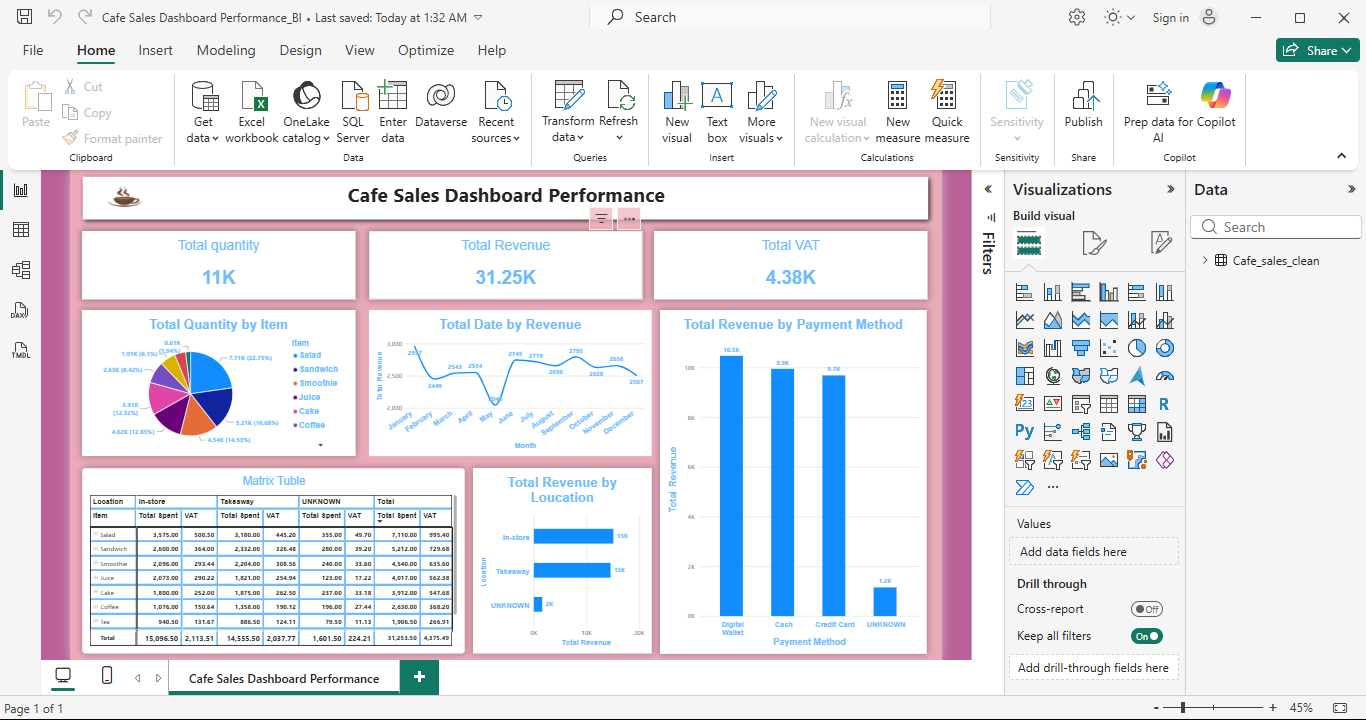

This screenshot's page, from the dashboard's own definition file:
{"tool":"powerbi","page":{"name":"Cafe Sales Dashboard Performance ","canvas":[1920,1080],"ordinal":0},"visuals":[{"type":"pieChart","title":"Total  Quantity by Item","fields":{"Category":["Cafe_sales_clean.Item"],"Y":["Sum(Cafe_sales_clean.Total Spent)"]},"box":[26.8,307.6,602.8,322.1],"z":0},{"type":"shape","box":[12.4,0,1893.2,123.9],"z":1000},{"type":"textbox","box":[46.3,15.4,1842.6,92.6],"z":2000},{"type":"card","title":"Total quantity","fields":{"Values":["Sum(Cafe_sales_clean.Quantity)"]},"box":[26.8,134.2,602.8,150.7],"z":3000},{"type":"card","title":"Total VAT","fields":{"Values":["Cafe_sales_clean.VAT"]},"box":[1286.2,134.2,602.8,150.7],"z":4000},{"type":"card","title":"Total Revenue","fields":{"Values":["Sum(Cafe_sales_clean.Total Spent)"]},"box":[658.6,134.2,602.8,150.7],"z":5000},{"type":"lineChart","title":"Total  Date by Revenue","fields":{"Category":["Cafe_sales_clean.Transaction Date.Variation.Date Hierarchy.Year","Cafe_sales_clean.Transaction Date.Variation.Date Hierarchy.Quarter","Cafe_sales_clean.Transaction Date.Variation.Date Hierarchy.Month"],"Y":["Sum(Cafe_sales_clean.Total Spent)"]},"box":[658.6,307.6,623.5,322.1],"z":6000},{"type":"pivotTable","title":"Matrix Tuble","fields":{"Columns":["Cafe_sales_clean.Location"],"Rows":["Cafe_sales_clean.Item","Cafe_sales_clean.Payment Method"],"Values":["Sum(Cafe_sales_clean.Total Spent)","Cafe_sales_clean.VAT"]},"box":[26.8,656.5,844.4,408.8],"z":7000},{"type":"columnChart","title":"Total Revenue by Payment Method","fields":{"Category":["Cafe_sales_clean.Payment Method"],"Y":["Sum(Cafe_sales_clean.Total Spent)"]},"box":[1300.6,307.6,588.4,757.7],"z":8000},{"type":"barChart","title":"Total Revenue by  Loucation","fields":{"Category":["Cafe_sales_clean.Location"],"Y":["Sum(Cafe_sales_clean.Total Spent)"]},"box":[887.7,656.5,394.3,408.8],"z":8001},{"type":"image","box":[46.3,15.4,147.7,90.4],"z":8002}]}

Visuals, with their boxes on the page's 1920x1080 design canvas (x1, y1, x2, y2). These are canvas units, not pixel positions in the 1366x720 screenshot, which may show the page scaled, cropped or inside an application window:
"Total  Quantity by Item" pieChart: left=27, top=308, right=630, bottom=630
shape: left=12, top=0, right=1906, bottom=124
textbox: left=46, top=15, right=1889, bottom=108
"Total quantity" card: left=27, top=134, right=630, bottom=285
"Total VAT" card: left=1286, top=134, right=1889, bottom=285
"Total Revenue" card: left=659, top=134, right=1261, bottom=285
"Total  Date by Revenue" lineChart: left=659, top=308, right=1282, bottom=630
"Matrix Tuble" pivotTable: left=27, top=656, right=871, bottom=1065
"Total Revenue by Payment Method" columnChart: left=1301, top=308, right=1889, bottom=1065
"Total Revenue by  Loucation" barChart: left=888, top=656, right=1282, bottom=1065
image: left=46, top=15, right=194, bottom=106
